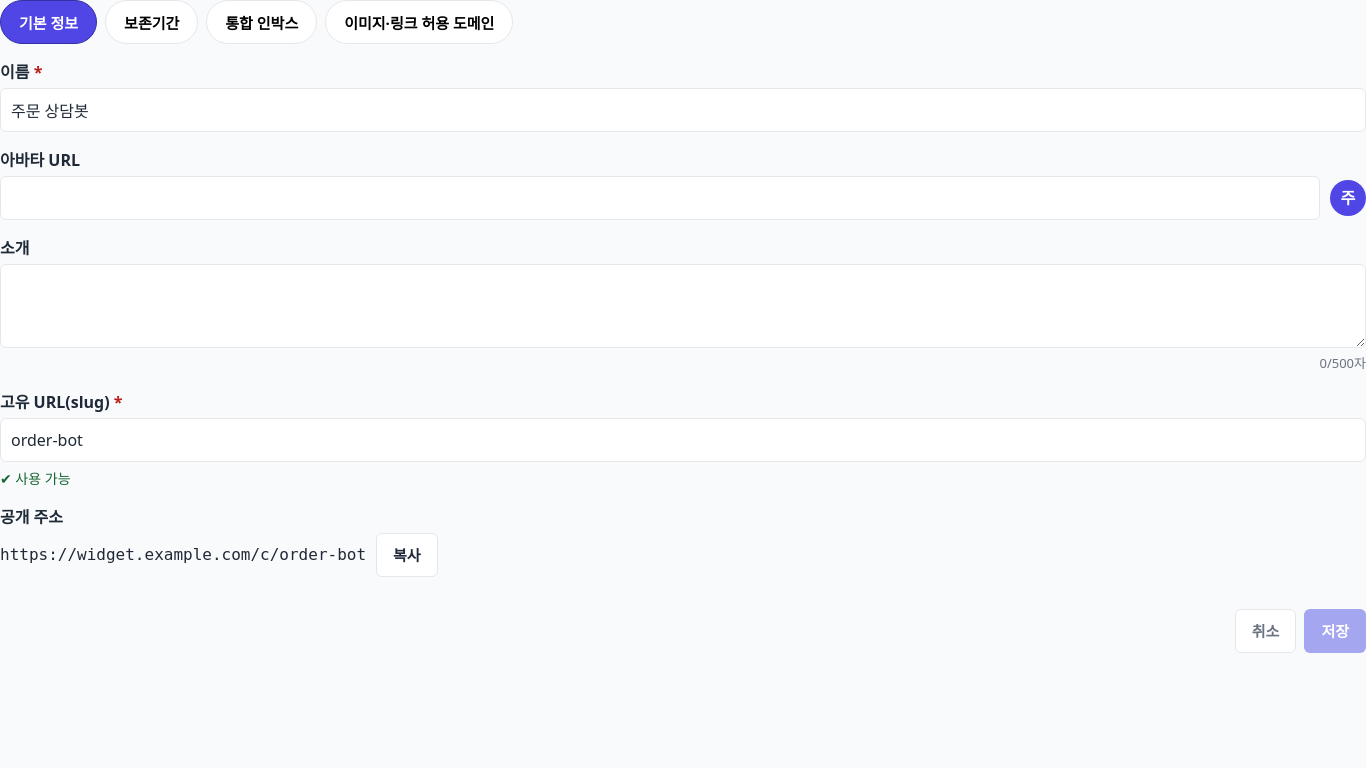
Scenario: SettingsTab — slug 변경 경고 모달 (AC-3-7) › 경고 모달에서 Esc를 누르면 취소되고 PATCH가 전송되지 않는다(AC-5-5)
Replace the text in the field labelled "고유 URL(slug) *" with "order-bot-v2": (683, 440) [0,418,1365,462]
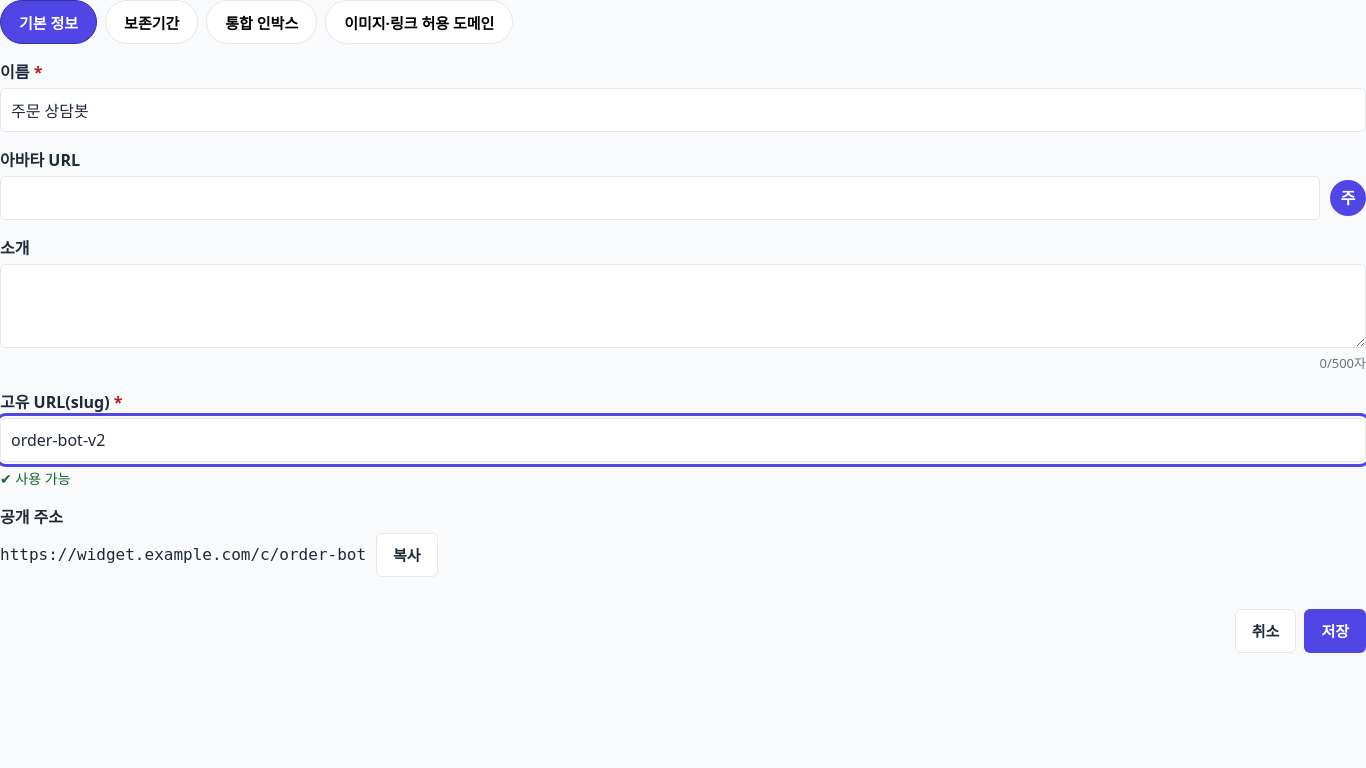
Click the button "저장": (1335, 630) [1304,608,1365,652]
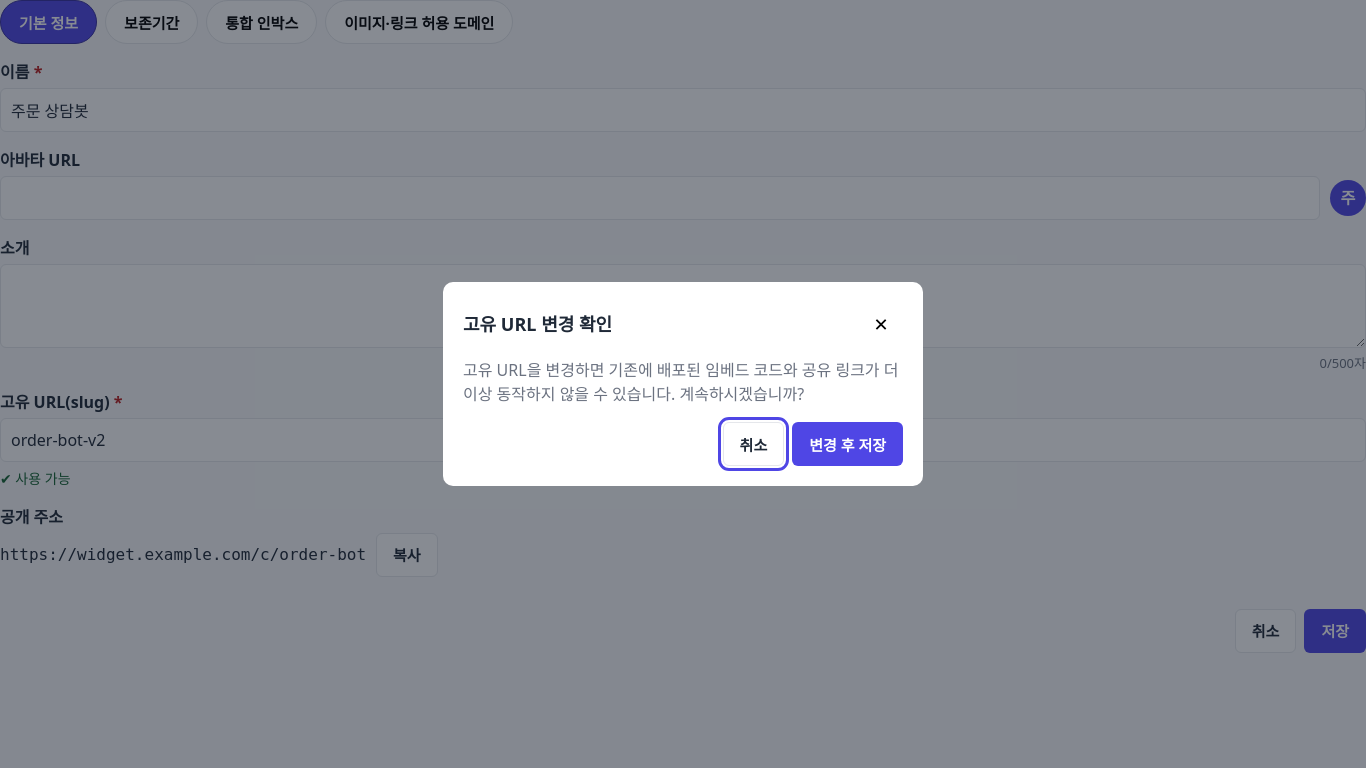
expect the dialog "고유 URL 변경 확인" is shown: met, box [443,282,923,486]
Press Escape
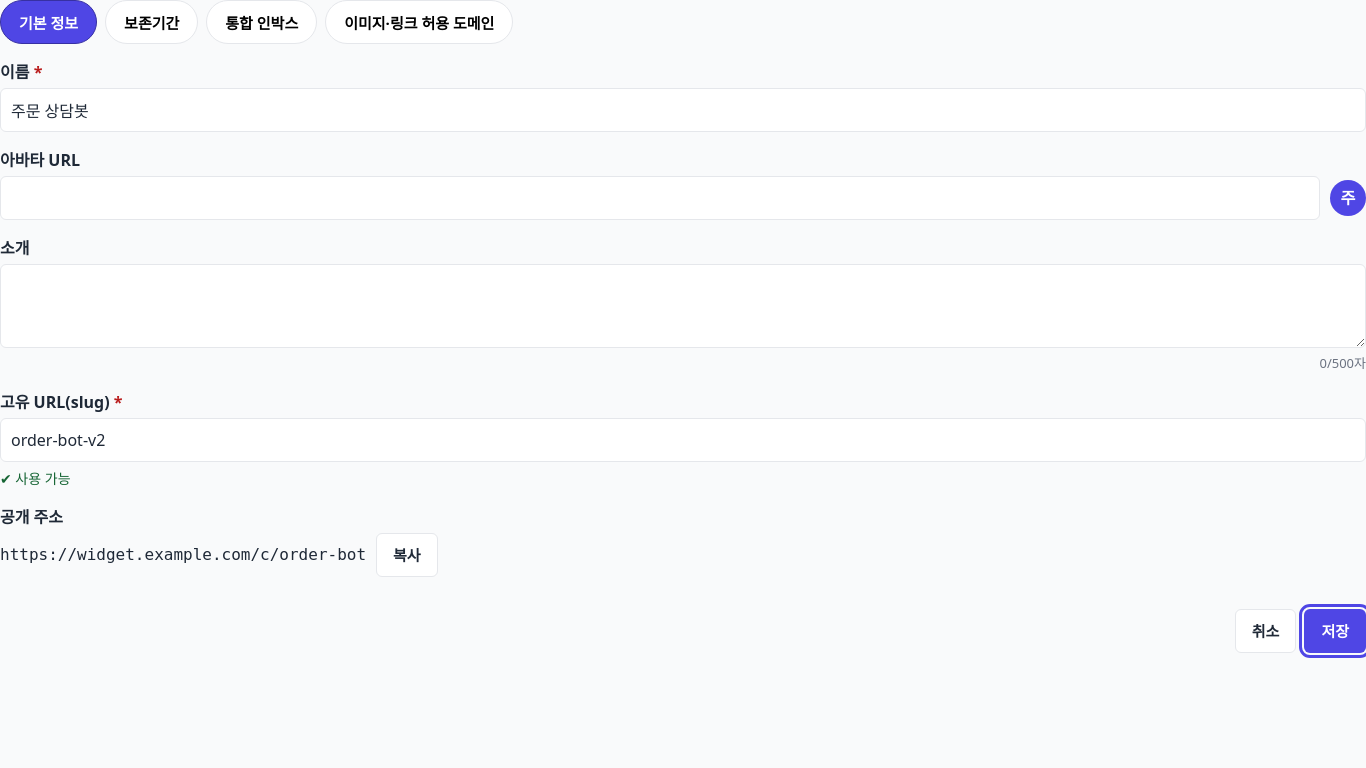
expect the dialog is gone: met
